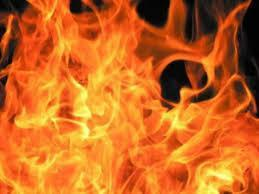fire: (0, 0, 257, 191)
